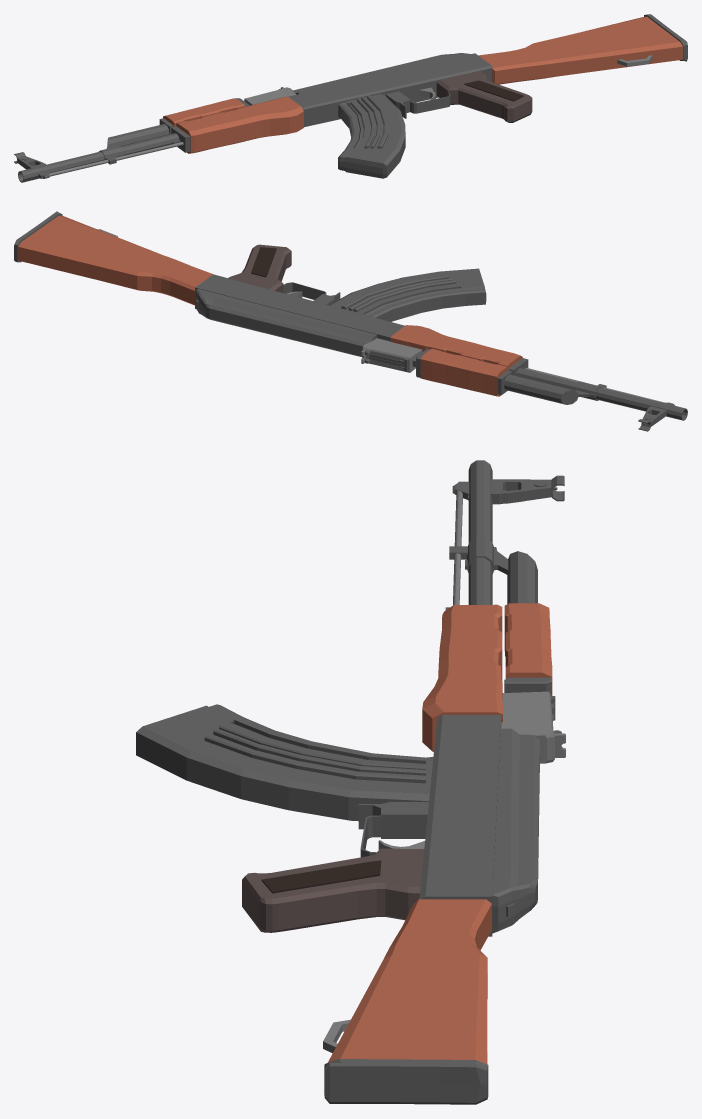
3 renders of one model, top to bottom at view 1: azimuth 30°, elevation 25°; view 2: azimuth 150°, elevation 25°; view 3: azimuth 270°, elevation 25°, orthographic. The views are drawn at different scales.
Parts seen in each view (by area): view 1: AK47 - CodersCrux; view 2: AK47 - CodersCrux; view 3: AK47 - CodersCrux.
Boxes of the visible parts, x1,y1,x2,y2 form: AK47 - CodersCrux: (14, 14, 687, 182); AK47 - CodersCrux: (14, 211, 687, 431); AK47 - CodersCrux: (136, 460, 565, 1104).
Bounding box in the file's own units: 480 × 16.53 × 142.
